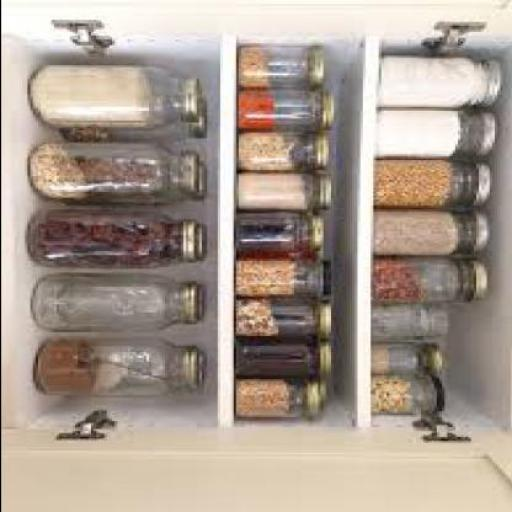biodegradable: (42, 64, 156, 122), (37, 217, 177, 263), (385, 58, 489, 106), (378, 209, 459, 255), (383, 110, 464, 155), (378, 160, 456, 204), (90, 154, 166, 192), (37, 142, 90, 196), (45, 344, 100, 390), (238, 379, 296, 414), (243, 212, 299, 248), (243, 257, 299, 293), (245, 176, 306, 208), (245, 136, 301, 168), (378, 262, 427, 298), (377, 376, 414, 414), (240, 300, 282, 332), (240, 45, 272, 85), (245, 91, 274, 127), (238, 342, 267, 374), (71, 126, 111, 139), (375, 345, 393, 370)
glass: (34, 140, 184, 202), (32, 338, 187, 397), (35, 65, 182, 127), (34, 272, 184, 332), (37, 210, 185, 266), (383, 53, 491, 109), (380, 107, 483, 156), (377, 158, 478, 206), (380, 257, 473, 303), (383, 207, 475, 253), (237, 253, 325, 298), (243, 87, 322, 131), (234, 297, 322, 336), (372, 300, 451, 342), (240, 43, 314, 87), (240, 209, 311, 251), (235, 342, 316, 378), (243, 172, 322, 207), (243, 132, 319, 168), (66, 118, 184, 140), (238, 380, 312, 415), (372, 372, 433, 414), (55, 190, 190, 206), (372, 343, 430, 372), (243, 249, 319, 257)
metal: (182, 282, 206, 322), (188, 346, 208, 394), (188, 217, 206, 262), (312, 375, 332, 415), (475, 259, 494, 301), (488, 60, 504, 106), (190, 99, 209, 136), (184, 148, 200, 188), (190, 160, 206, 198), (472, 212, 488, 248), (484, 109, 496, 156), (317, 132, 333, 167), (188, 77, 200, 121), (314, 45, 327, 85), (480, 160, 490, 206), (320, 340, 332, 374), (325, 296, 335, 334), (314, 209, 324, 245), (322, 174, 332, 206), (433, 342, 443, 374), (325, 87, 332, 131), (438, 374, 446, 409), (325, 257, 332, 291)
